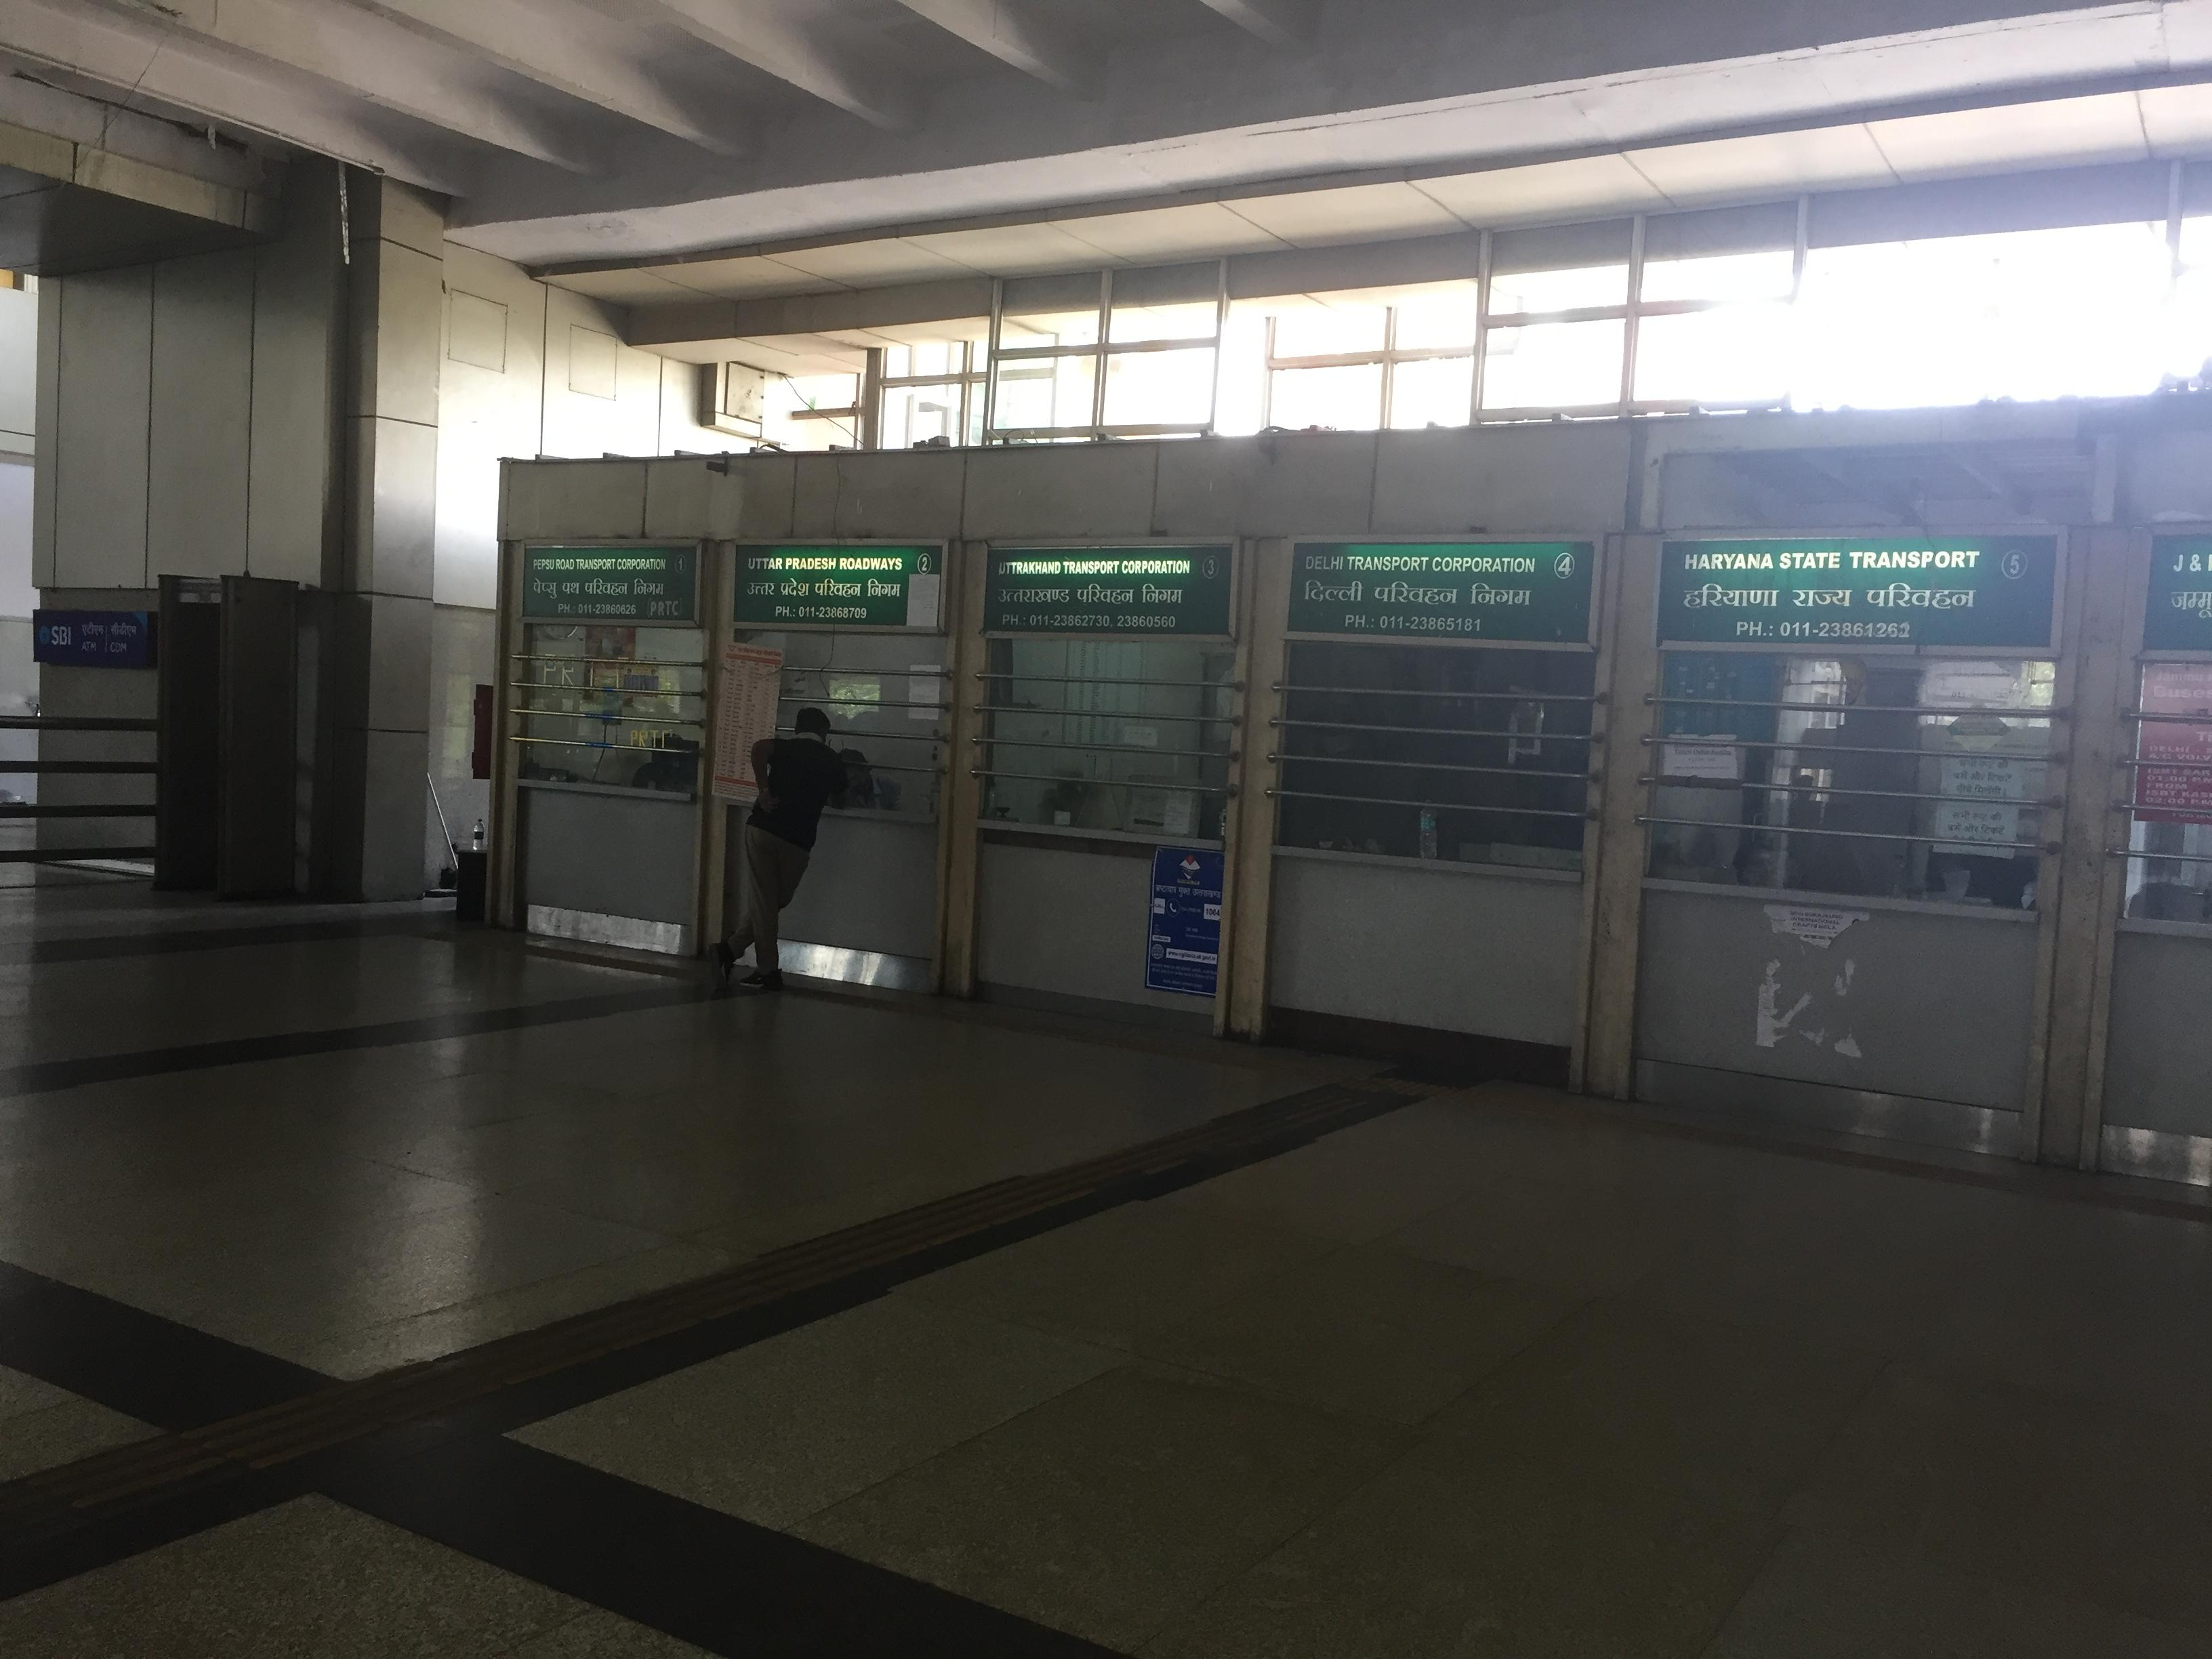Bus-stop-board: (512, 528, 2212, 657)
